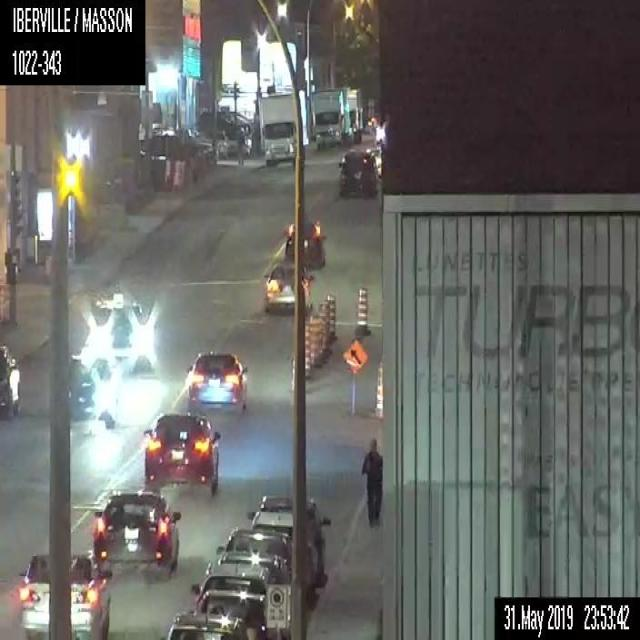construction: (340, 337, 367, 415), (355, 284, 370, 335), (317, 302, 328, 359), (310, 312, 321, 369), (170, 156, 186, 192), (326, 288, 335, 344), (375, 354, 382, 416), (304, 320, 310, 376)
pedestrian: (361, 435, 382, 525), (236, 128, 245, 167)
vehicle: (15, 552, 112, 639), (246, 494, 328, 595), (91, 490, 180, 583), (141, 412, 222, 497), (76, 292, 159, 373), (215, 523, 296, 589), (189, 556, 277, 614), (182, 349, 246, 410), (66, 356, 118, 431), (197, 589, 269, 632), (256, 91, 296, 165), (163, 606, 244, 638), (261, 263, 314, 309), (313, 84, 350, 147), (337, 148, 378, 198), (282, 221, 326, 266), (248, 510, 308, 543), (0, 340, 21, 415), (346, 86, 362, 146)
